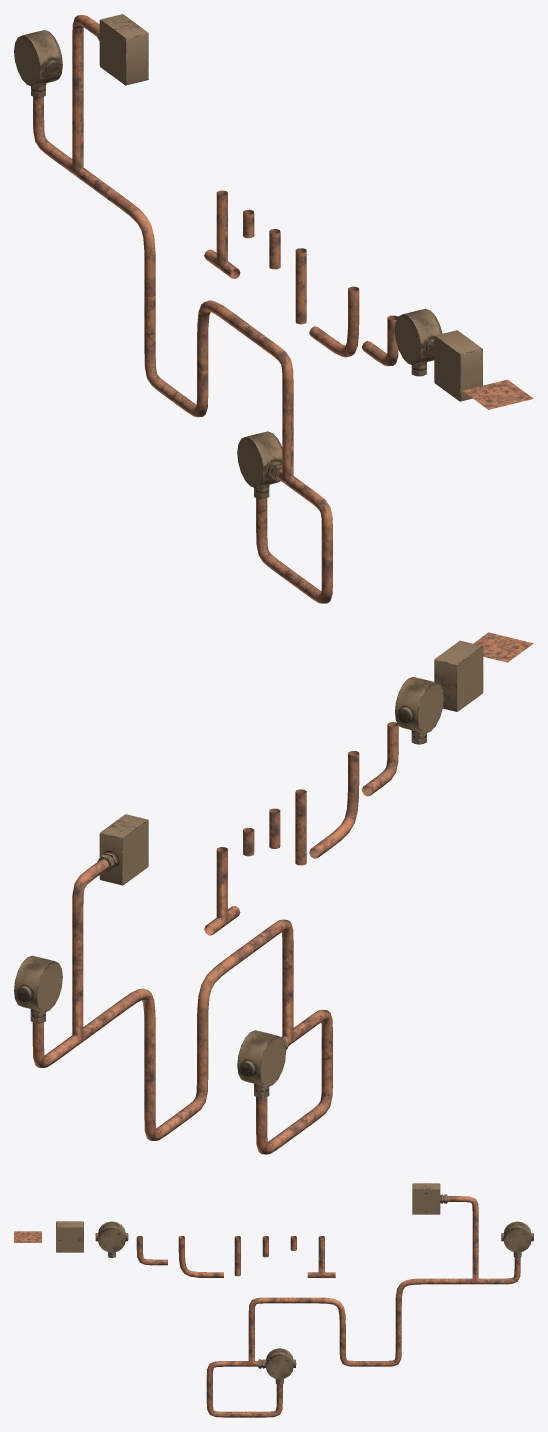
Rendered from low_poly_electrical_wirespipe_set.glb.
3 renders of one model, top to bottom at view 1: azimuth 30°, elevation 25°; view 2: azimuth 150°, elevation 25°; view 3: azimuth 270°, elevation 25°, orthographic. The views are drawn at different scales.
Visible parts, largest first — view 1: ExamplePipe.001, JunctionBox_Square, ExamplePipe.010, ExamplePipe.004, JunctionBox_Circle, ExamplePipe.015, Large_L_Pipe, T_Pipe, ExamplePipe.014, TileSet, ExamplePipe.040, ExamplePipe.039 (+10 smaller); view 2: JunctionBox_Square, ExamplePipe.001, ExamplePipe.010, JunctionBox_Circle, ExamplePipe.004, ExamplePipe.014, Large_L_Pipe, T_Pipe, ExamplePipe.015, ExamplePipe.040, TileSet, ExamplePipe.039 (+10 smaller); view 3: ExamplePipe, JunctionBox_FacePlate_Square, JunctionBox_FacePlate_Circle, ExamplePipe.005, ExamplePipe.011, ExamplePipe.014, ExamplePipe.015, Large_L_Pipe, ExamplePipe.040, T_Pipe, ExamplePipe.039, Small_L_Pipe (+9 smaller).
Boxes of the visible parts, box(x1,y1,x2,y2) form: ExamplePipe.001: box(99, 14, 148, 85); JunctionBox_Square: box(434, 330, 482, 401); ExamplePipe.010: box(14, 30, 62, 87); ExamplePipe.004: box(237, 431, 282, 489); JunctionBox_Circle: box(395, 309, 441, 366); ExamplePipe.015: box(105, 189, 155, 296); Large_L_Pipe: box(309, 286, 359, 357); T_Pipe: box(204, 190, 240, 278); ExamplePipe.014: box(197, 300, 244, 371); TileSet: box(462, 379, 533, 409); ExamplePipe.040: box(60, 99, 93, 183); ExamplePipe.039: box(276, 407, 303, 492); JunctionBox_Square: box(434, 640, 483, 711); ExamplePipe.001: box(100, 814, 148, 885); ExamplePipe.010: box(14, 955, 62, 1013); JunctionBox_Circle: box(395, 677, 443, 734); ExamplePipe.004: box(237, 1030, 286, 1087); ExamplePipe.014: box(197, 948, 246, 1056); Large_L_Pipe: box(309, 751, 359, 858); T_Pipe: box(204, 847, 240, 935); ExamplePipe.015: box(108, 988, 155, 1059); ExamplePipe.040: box(62, 967, 95, 1052); TileSet: box(473, 632, 533, 662); ExamplePipe.039: box(281, 968, 305, 1045); ExamplePipe: box(412, 1189, 440, 1214); JunctionBox_FacePlate_Square: box(56, 1227, 83, 1252); JunctionBox_FacePlate_Circle: box(98, 1227, 125, 1252); ExamplePipe.005: box(266, 1354, 293, 1379); ExamplePipe.011: box(503, 1227, 531, 1252); ExamplePipe.014: box(300, 1297, 345, 1339); ExamplePipe.015: box(395, 1278, 440, 1320); Large_L_Pipe: box(178, 1236, 223, 1277); ExamplePipe.040: box(461, 1244, 489, 1284); T_Pipe: box(307, 1236, 335, 1277); ExamplePipe.039: box(237, 1326, 258, 1366); Small_L_Pipe: box(136, 1236, 167, 1265).
Bounding box in the file's own units: 2 × 18.22 × 37.17.
2 materials, 2 textured.
